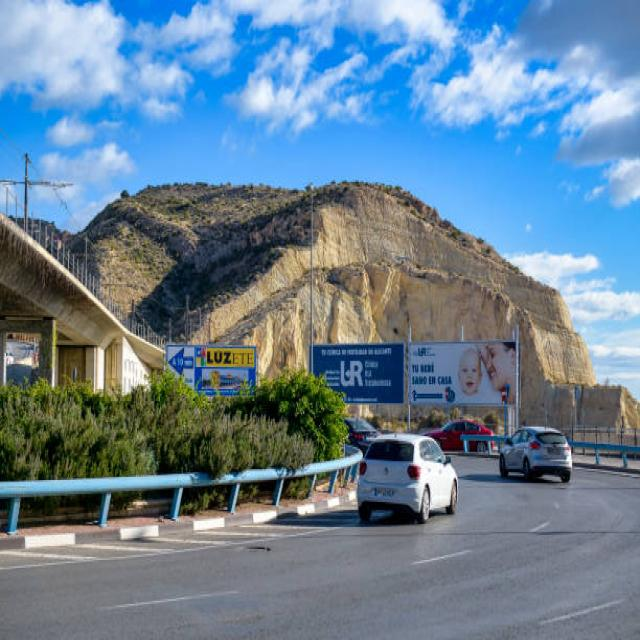Billboard_overhead_small: (409, 324, 519, 427), (300, 334, 409, 402), (164, 331, 261, 403)
Roadcorner: (2, 495, 358, 572)
Roadlane: (67, 486, 572, 633)
